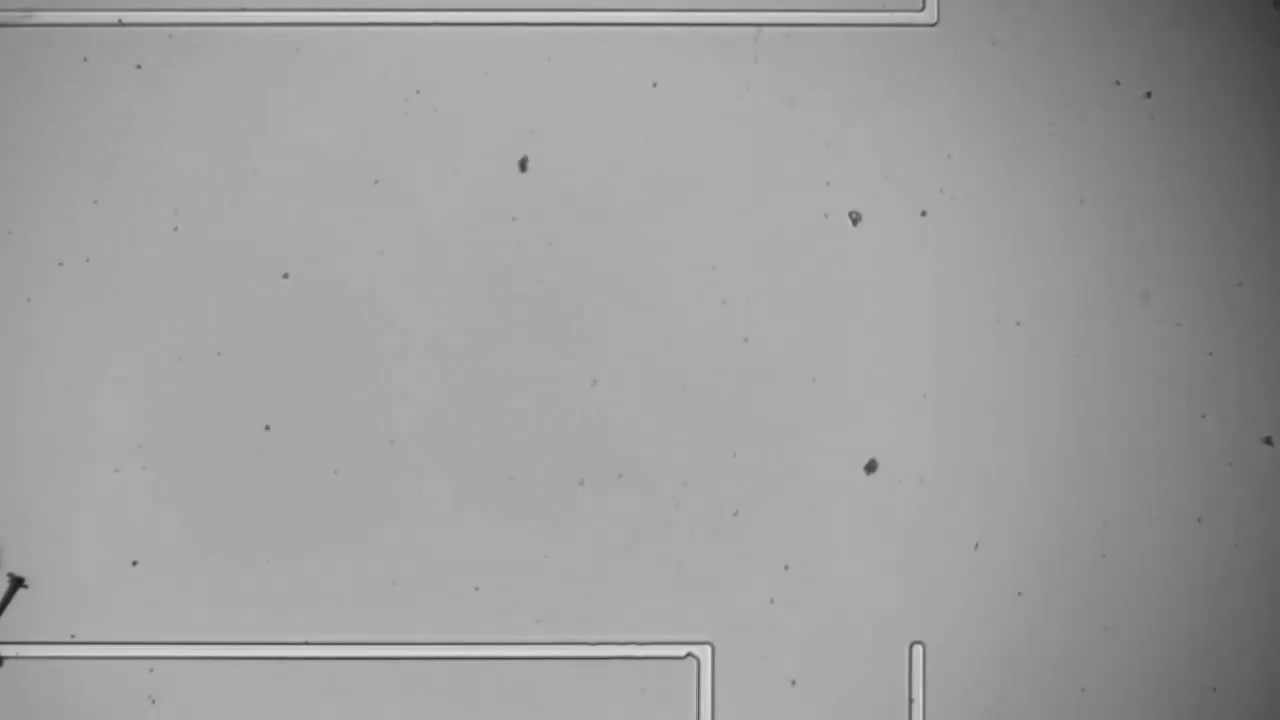edge_bite: (674, 632, 710, 664)
